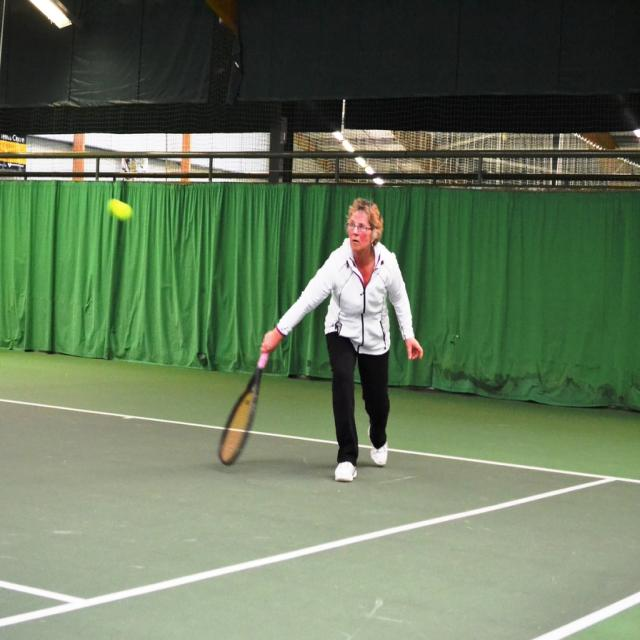Tennis ball: (105, 200, 134, 221)
